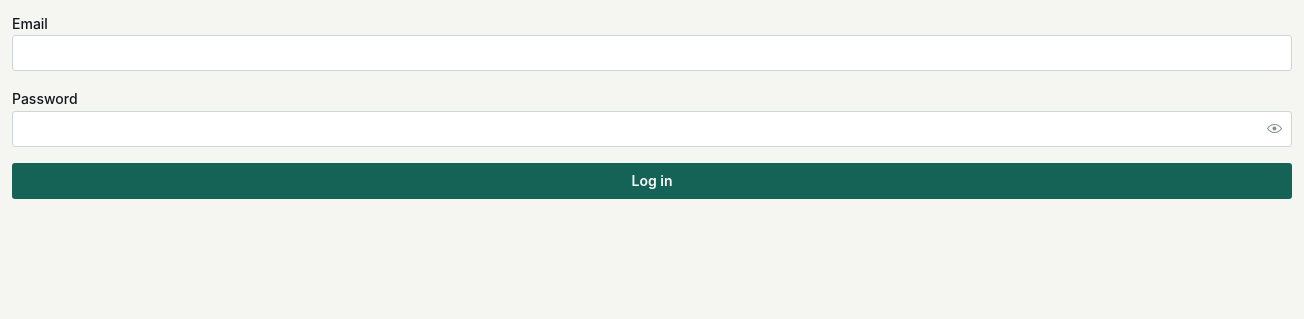
Scenario: LoginForm › shows the generic incorrect-credentials message on a 401, not a field-specific one
This screenshot has width=1304, height=319.
Type "unknown@acme.com" into the field labelled "Email" at [652, 53], box x1=12 y1=35 x2=1292 y2=71
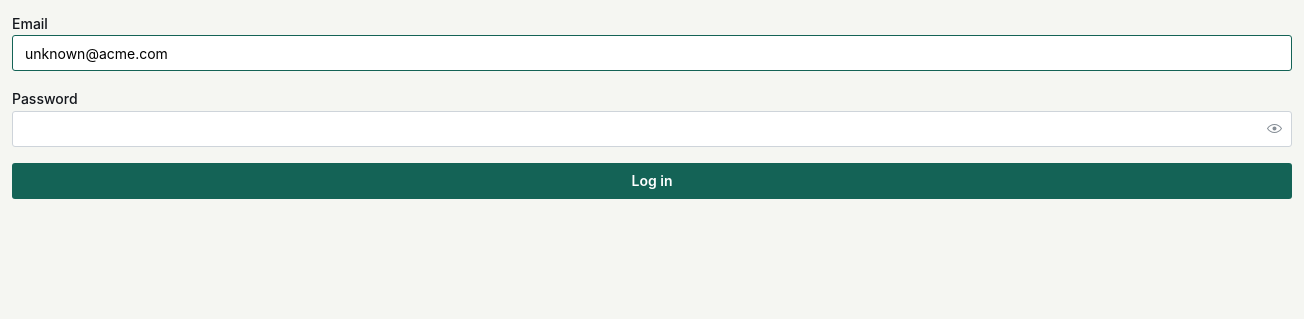
Type "wrong-pass" into the password field labelled "Password" at [652, 128], box x1=13 y1=112 x2=1291 y2=146
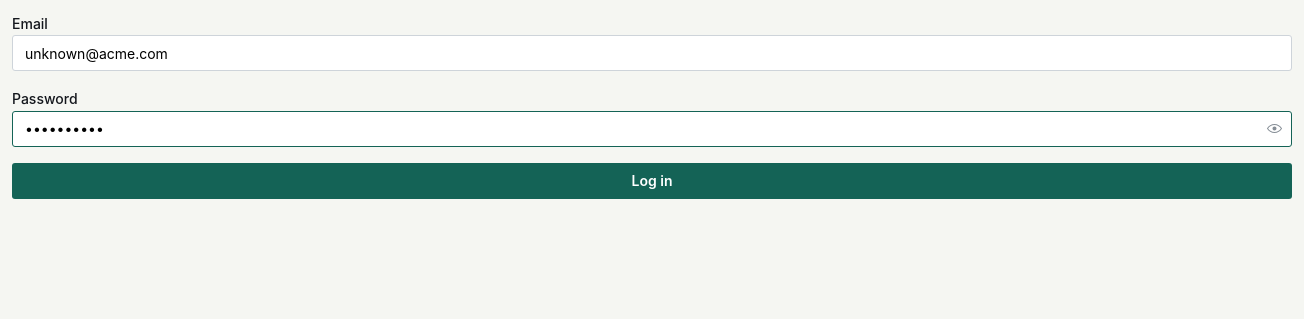
Click the button "Log in" at [652, 180], box x1=12 y1=162 x2=1292 y2=198
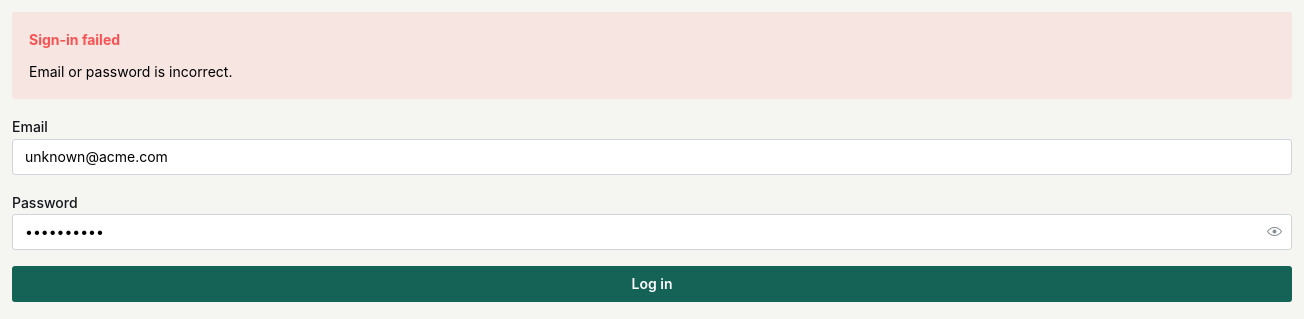
expect the message shows "Email or password is incorrect.": met, box x1=29 y1=63 x2=232 y2=80
